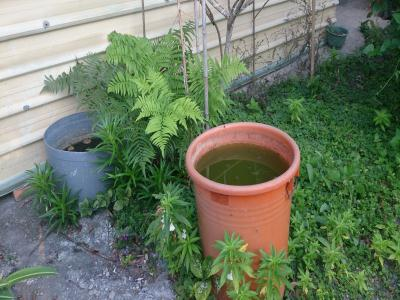bucket: (183, 120, 303, 299), (43, 109, 117, 198)
